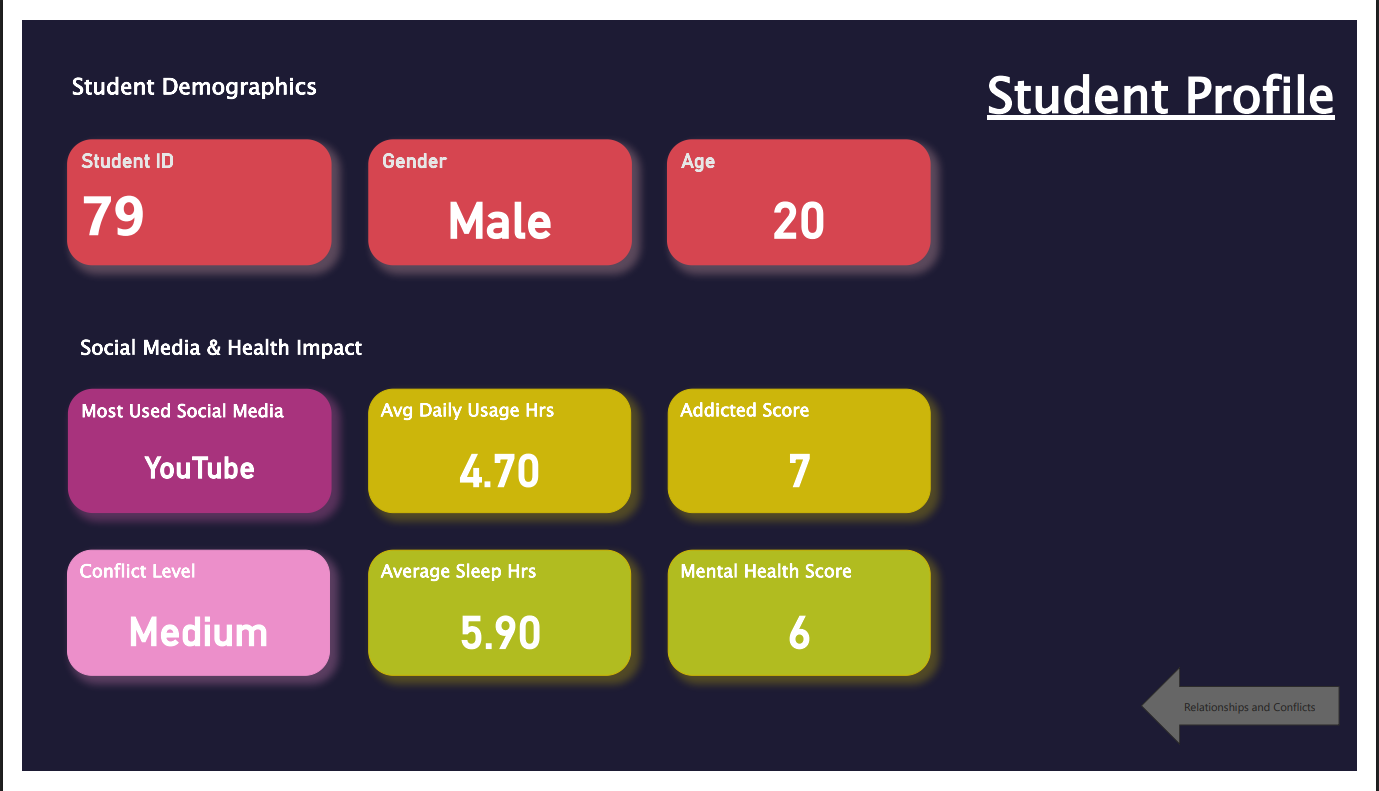

The page's visual inventory and layout, read from the dashboard file:
{"tool":"powerbi","page":{"name":"Drill Through : Student Profile","canvas":[1600,900],"ordinal":6},"visuals":[{"type":"card","title":"Average Sleep Hrs","fields":{"Values":["Sum(Student Details.Sleep_Hours_Per_Night)"]},"box":[414.7,634.9,315.2,150.8],"z":0},{"type":"card","title":"Avg Daily Usage Hrs","fields":{"Values":["Sum(Platform Details.Avg_Daily_Usage_Hours)"]},"box":[414.7,441.9,315.2,149.3],"z":1000},{"type":"card","title":"Addicted Score","fields":{"Values":["Sum(Student Details.Addicted_Score)"]},"box":[773.6,441.9,315.2,149.3],"z":2000},{"type":"card","title":"Most Used Social Media","fields":{"Values":["Min(Platform Details.Most_Used_Platform)"]},"box":[55,441.6,315.9,149.3],"z":3000},{"type":"card","title":"Conflict Level","fields":{"Values":["Min(Student Details.Conflit Level)"]},"box":[54.3,634.9,315.2,150.8],"z":4000},{"type":"card","title":"Mental Health Score","fields":{"Values":["Sum(Student Details.Mental_Health_Score)"]},"box":[773.6,634.9,315.2,150.8],"z":5000},{"type":"card","title":"Gender","fields":{"Values":["Min(Student Details.Gender)"]},"box":[414.9,143,315.9,150.9],"z":6000},{"type":"card","title":"Age","fields":{"Values":["Sum(Student Details.Age)"]},"box":[773.1,143,315.9,150.9],"z":7000},{"type":"textbox","box":[55,55,359.9,51.9],"z":8000},{"type":"multiRowCard","title":"Student ID","fields":{"Values":["Platform Details.Student_ID"]},"box":[54.3,143.3,316.7,150.8],"z":9000},{"type":"textbox","box":[65,369.9,359.9,51.9],"z":10000},{"type":"textbox","box":[1046.6,42.2,532.3,101],"z":11000},{"type":"pageNavigator","box":[1340.7,775.1,238.3,93.5],"z":12000}]}

Visuals, with their boxes in screenshot pixels (x1, y1, x2, y2), scaled from the page's 1600x900 canvas onto the 1379x791 screenshot:
"Average Sleep Hrs" card: <bbox>357, 558, 629, 691</bbox>
"Avg Daily Usage Hrs" card: <bbox>357, 388, 629, 520</bbox>
"Addicted Score" card: <bbox>667, 388, 938, 520</bbox>
"Most Used Social Media" card: <bbox>47, 388, 320, 519</bbox>
"Conflict Level" card: <bbox>47, 558, 318, 691</bbox>
"Mental Health Score" card: <bbox>667, 558, 938, 691</bbox>
"Gender" card: <bbox>358, 126, 630, 258</bbox>
"Age" card: <bbox>666, 126, 939, 258</bbox>
textbox: <bbox>47, 48, 358, 94</bbox>
"Student ID" multiRowCard: <bbox>47, 126, 320, 258</bbox>
textbox: <bbox>56, 325, 366, 371</bbox>
textbox: <bbox>902, 37, 1361, 126</bbox>
pageNavigator: <bbox>1156, 681, 1361, 763</bbox>
